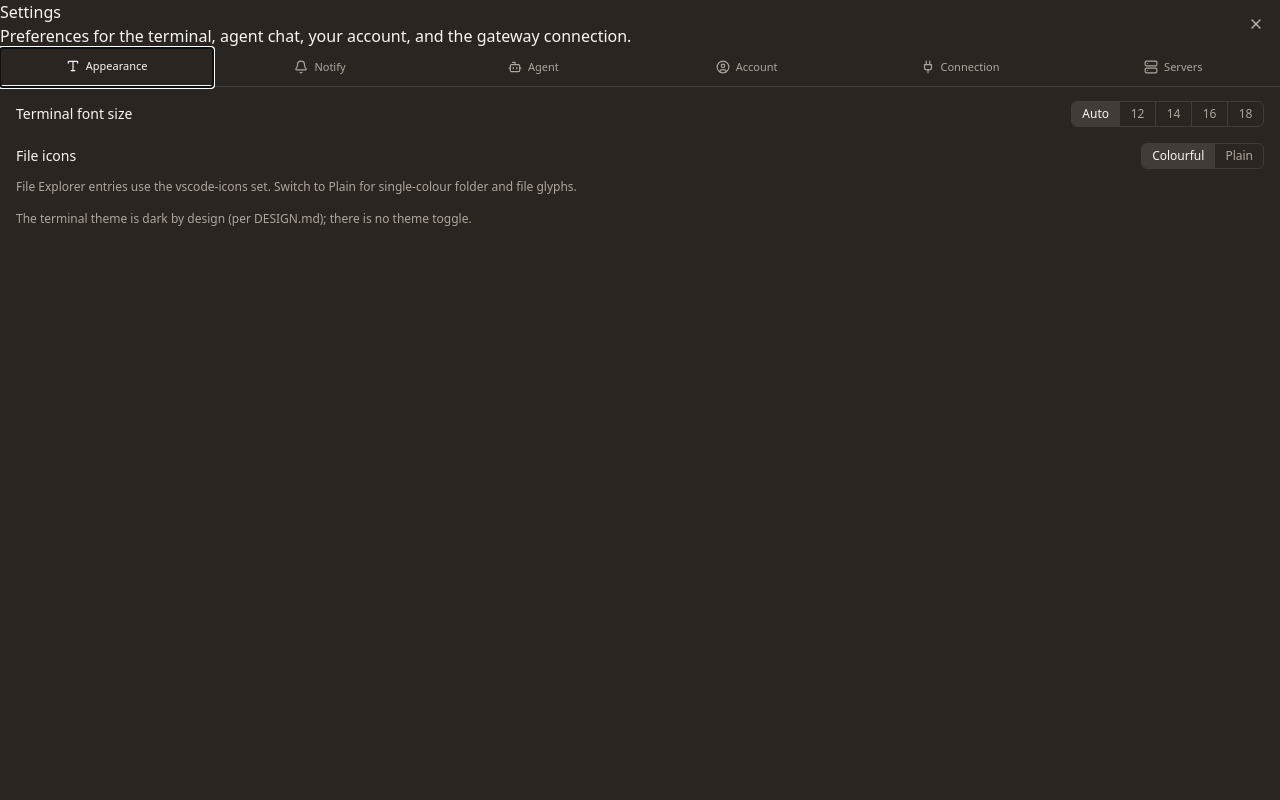
Test: SettingsDialog › explains where agent model controls live on the Agent tab
Click the tab "Agent". click: (533, 67)
box: [427, 48, 640, 86]
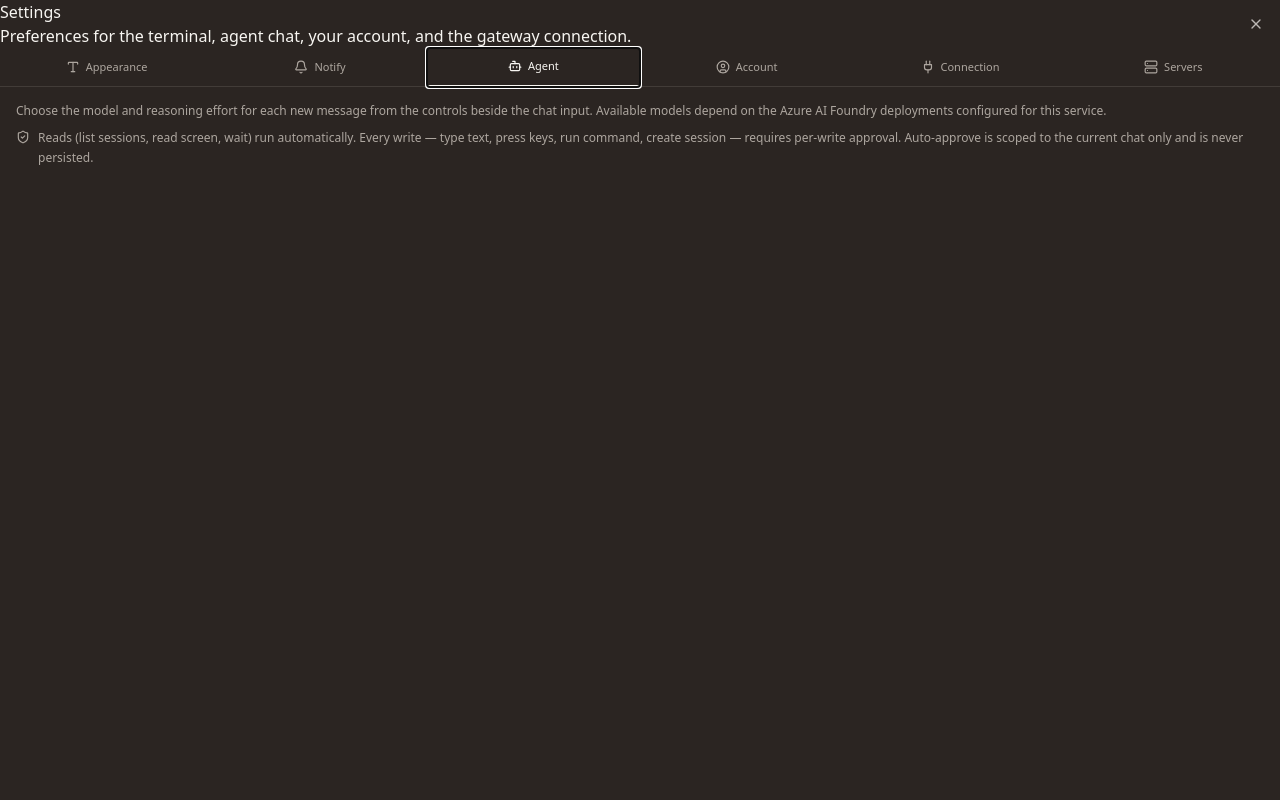
Now the text "Choose the model and reasoning effort" is shown, box [16, 102, 1106, 118]
